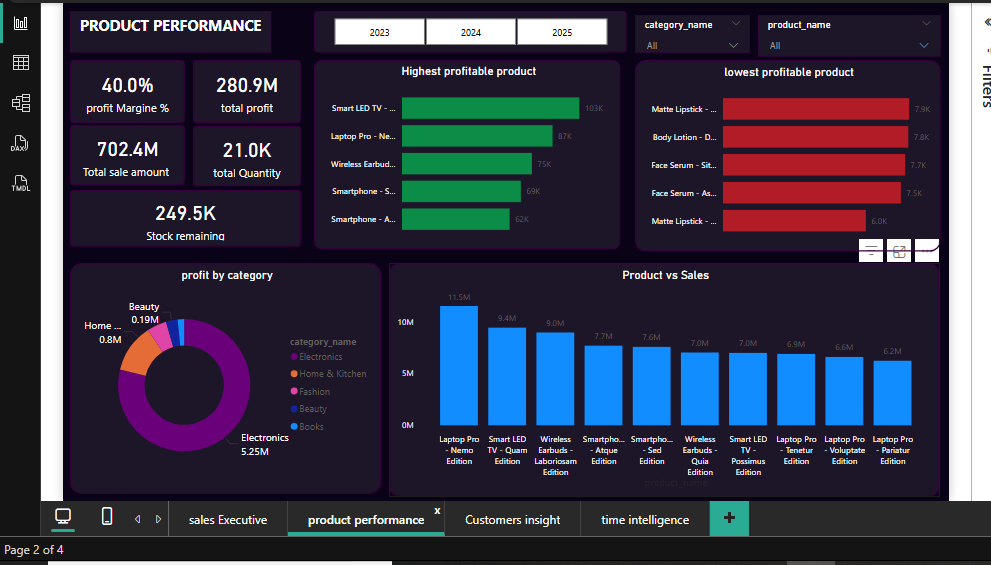

Layout of this report page (visuals, bound fields, positions):
{"tool":"powerbi","page":{"name":"product performance","canvas":[1280,720],"ordinal":1},"visuals":[{"type":"textbox","box":[10.1,11.8,290.6,60.5],"z":0},{"type":"clusteredColumnChart","title":"Product vs Sales ","fields":{"Category":["products.product_name"],"Y":["Sum(order_items.total_price)"]},"box":[472,376.3,796.2,337.6],"z":1000},{"type":"slicer","fields":{"Values":["products.product_name"]},"box":[1004.5,16.8,263.7,60.5],"z":2000},{"type":"barChart","title":" Highest profitable product","fields":{"Category":["products.product_name"],"Y":["Sum(products.profit)"]},"box":[362.8,82.3,443.5,273.8],"z":3000},{"type":"donutChart","title":"profit by category","fields":{"Category":["category.category_name"],"Y":["Sum(products.profit)"]},"box":[10.1,376.3,450.2,334.3],"z":4000},{"type":"slicer","fields":{"Values":["orders.order_date.Variation.Date Hierarchy.Year"]},"box":[362.8,11.8,451.9,60.5],"z":5000},{"type":"slicer","fields":{"Values":["category.category_name"]},"box":[826.5,16.8,166.3,55.4],"z":6000},{"type":"barChart","title":"lowest profitable product ","fields":{"Category":["products.product_name"],"Y":["Sum(order_items.total_price)"]},"box":[826.5,82.3,441.8,277.2],"z":7000},{"type":"card","fields":{"Values":["category.total profit"]},"box":[188.1,82.3,156.2,90.7],"z":8000},{"type":"card","fields":{"Values":["Sum(order_items.total_price)"]},"box":[10.1,176.4,166.3,87.3],"z":9000},{"type":"card","fields":{"Values":["CountNonNull(order_items.order_id)"]},"box":[188.1,178.1,156.2,87.3],"z":10000},{"type":"card","fields":{"Values":["category.profit Margine %"]},"box":[10.1,82.3,166.3,90.7],"z":11000},{"type":"card","fields":{"Values":["Sum(inventory.stock_remaining)"]},"box":[10.1,270.4,334.3,82.3],"z":12000}]}

Visuals, with their boxes on the page's 1280x720 design canvas (x1, y1, x2, y2). These are canvas units, not pixel positions in the 991x565 screenshot, which may show the page scaled, cropped or inside an application window:
textbox: [left=10, top=12, right=301, bottom=72]
"Product vs Sales " clusteredColumnChart: [left=472, top=376, right=1268, bottom=714]
slicer - products.product_name: [left=1004, top=17, right=1268, bottom=77]
" Highest profitable product" barChart: [left=363, top=82, right=806, bottom=356]
"profit by category" donutChart: [left=10, top=376, right=460, bottom=711]
slicer - orders.order_date.Variation.Date Hierarchy.Year: [left=363, top=12, right=815, bottom=72]
slicer - category.category_name: [left=826, top=17, right=993, bottom=72]
"lowest profitable product " barChart: [left=826, top=82, right=1268, bottom=360]
card - category.total profit: [left=188, top=82, right=344, bottom=173]
card - Sum(order_items.total_price): [left=10, top=176, right=176, bottom=264]
card - CountNonNull(order_items.order_id): [left=188, top=178, right=344, bottom=265]
card - category.profit Margine %: [left=10, top=82, right=176, bottom=173]
card - Sum(inventory.stock_remaining): [left=10, top=270, right=344, bottom=353]
